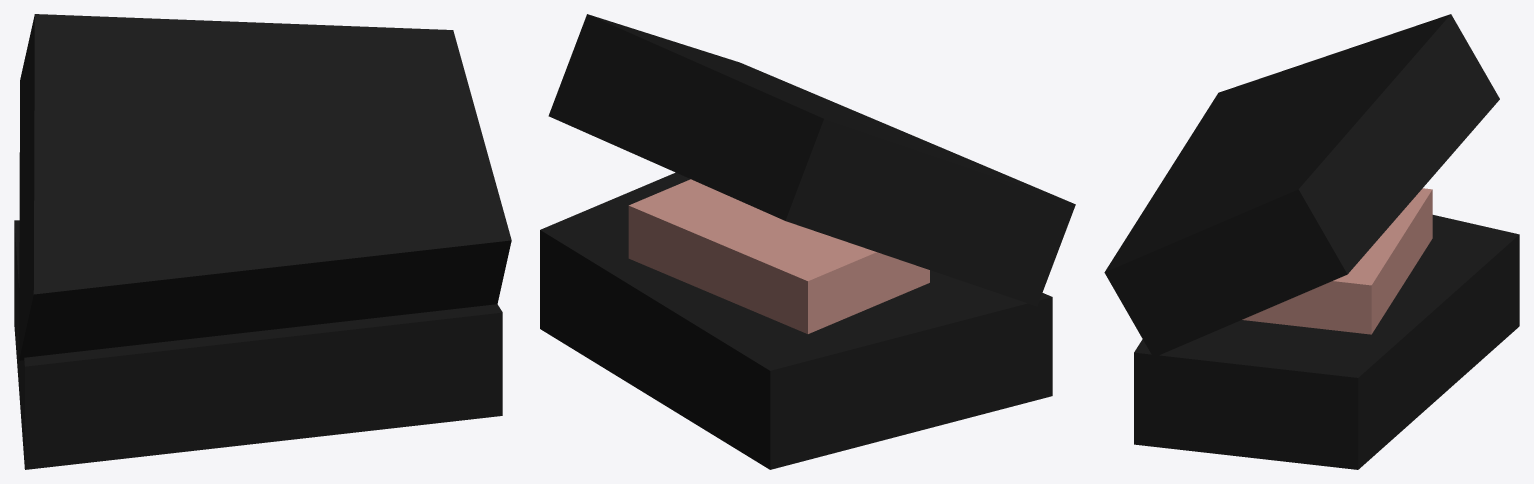
The model's file is Mussel.fbx.
3 renders of one model, left to right at view 1: azimuth 30°, elevation 25°; view 2: azimuth 150°, elevation 25°; view 3: azimuth 270°, elevation 25°, orthographic. The views are drawn at different scales.
Parts seen in each view (by area): view 1: polySurface20; view 2: polySurface20; view 3: polySurface20.
Boxes of the visible parts, bbox=[...] form: polySurface20: bbox=[14, 14, 511, 469]; polySurface20: bbox=[540, 14, 1075, 469]; polySurface20: bbox=[1104, 14, 1519, 469].
Size of the model in its own units: 34.8 by 23.71 by 29.28.
